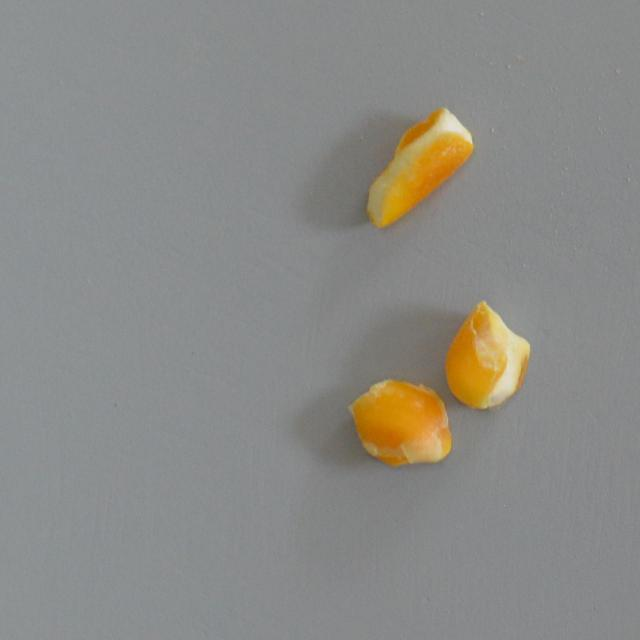pelicula: (360, 104, 474, 235), (340, 364, 454, 475), (440, 297, 537, 419)
